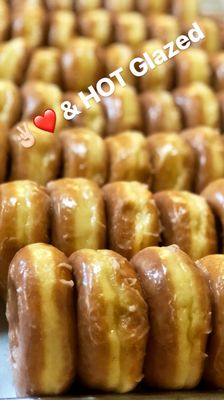salad: (129, 243, 212, 390), (68, 247, 150, 394), (45, 177, 107, 256), (102, 180, 161, 260), (153, 189, 218, 261), (1, 179, 51, 247), (146, 131, 199, 194), (180, 124, 223, 192), (104, 129, 153, 186)
